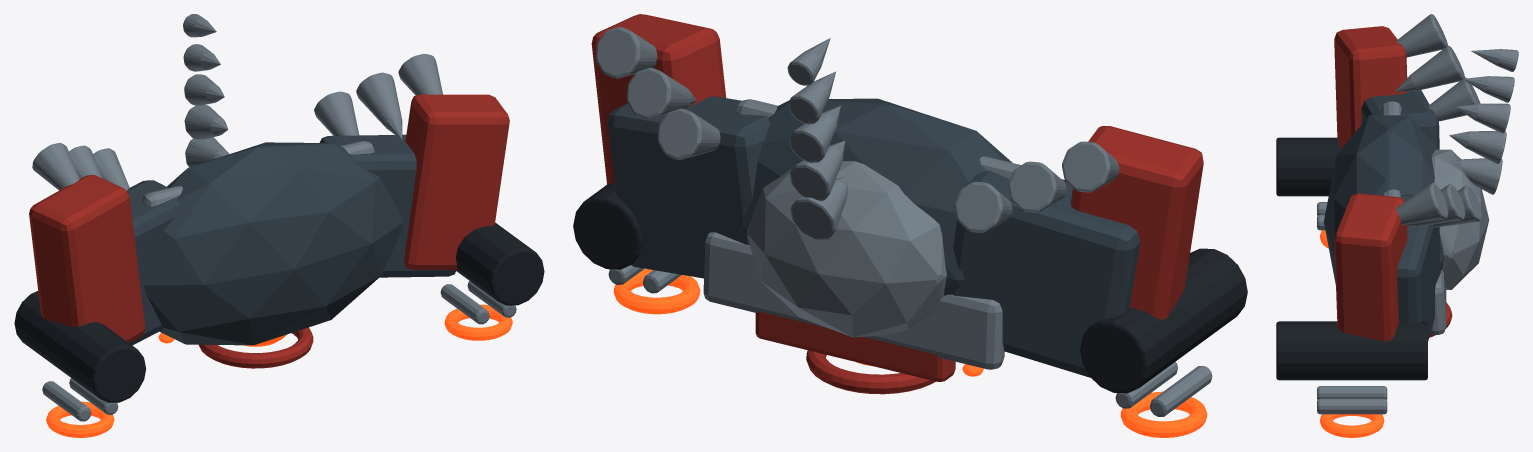
Rendered from leviathan.glb.
The picture shows the model from 3 angles, left to right: view 1: azimuth 30°, elevation 25°; view 2: azimuth 150°, elevation 25°; view 3: azimuth 270°, elevation 25°; orthographic projection. The views are drawn at different scales.
Visible parts, largest first — view 1: Leviathan_CoreHull, Leviathan_Arm_-1, Leviathan_Arm_1, Leviathan_Cannon_-1, Leviathan_Cannon_1, Leviathan_Shoulder_1, Leviathan_Shoulder_-1, Leviathan_CoreRing, Leviathan_WingSpike_1_1, Leviathan_WingSpike_1_0, Leviathan_WingSpike_-1_2, Leviathan_WingSpike_1_2 (+14 smaller); view 2: Leviathan_Crown, Leviathan_Shoulder_-1, Leviathan_Shoulder_1, Leviathan_CoreHull, Leviathan_Arm_-1, Leviathan_Cannon_-1, Leviathan_ArmorBand_0, Leviathan_Arm_1, Leviathan_Brow, Leviathan_Cannon_1, Leviathan_WingSpike_1_1, Leviathan_CoreRing (+15 smaller); view 3: Leviathan_Arm_1, Leviathan_Cannon_1, Leviathan_CoreHull, Leviathan_Arm_-1, Leviathan_Shoulder_1, Leviathan_Crown, Leviathan_Cannon_-1, Leviathan_Shoulder_-1, Leviathan_WingSpike_-1_1, Leviathan_WingSpike_1_2, Leviathan_WingSpike_-1_2, Leviathan_WingSpike_-1_0 (+12 smaller).
Part boxes in pixels (x1,y1,x2,y2): Leviathan_CoreHull: [143, 142, 403, 345]; Leviathan_Arm_-1: [29, 175, 145, 342]; Leviathan_Arm_1: [404, 94, 509, 269]; Leviathan_Cannon_-1: [14, 291, 146, 402]; Leviathan_Cannon_1: [455, 222, 544, 305]; Leviathan_Shoulder_1: [319, 134, 455, 277]; Leviathan_Shoulder_-1: [126, 180, 180, 345]; Leviathan_CoreRing: [199, 327, 313, 368]; Leviathan_WingSpike_1_1: [356, 72, 402, 139]; Leviathan_WingSpike_1_0: [314, 91, 359, 135]; Leviathan_WingSpike_-1_2: [32, 142, 79, 190]; Leviathan_WingSpike_1_2: [398, 54, 442, 95]; Leviathan_Crown: [747, 161, 946, 337]; Leviathan_Shoulder_-1: [952, 170, 1140, 377]; Leviathan_Shoulder_1: [608, 96, 769, 278]; Leviathan_CoreHull: [738, 98, 1012, 295]; Leviathan_Arm_-1: [1071, 126, 1203, 319]; Leviathan_Cannon_-1: [1080, 248, 1247, 393]; Leviathan_ArmorBand_0: [703, 232, 1004, 369]; Leviathan_Arm_1: [591, 14, 726, 184]; Leviathan_Brow: [755, 311, 955, 381]; Leviathan_Cannon_1: [573, 182, 642, 269]; Leviathan_WingSpike_1_1: [626, 67, 696, 119]; Leviathan_CoreRing: [806, 350, 935, 394]; Leviathan_Arm_1: [1334, 193, 1407, 341]; Leviathan_Cannon_1: [1276, 321, 1427, 380]; Leviathan_CoreHull: [1324, 115, 1443, 284]; Leviathan_Arm_-1: [1334, 26, 1407, 149]; Leviathan_Shoulder_1: [1397, 194, 1440, 340]; Leviathan_Crown: [1431, 149, 1489, 289]; Leviathan_Cannon_-1: [1276, 137, 1340, 196]; Leviathan_Shoulder_-1: [1361, 90, 1439, 149]; Leviathan_WingSpike_-1_1: [1395, 46, 1465, 91]; Leviathan_WingSpike_1_2: [1396, 183, 1448, 225]; Leviathan_WingSpike_-1_2: [1396, 14, 1448, 57]; Leviathan_WingSpike_-1_0: [1427, 77, 1480, 121].
Size of the model in its own units: 4.49 by 2.77 by 2.14.
